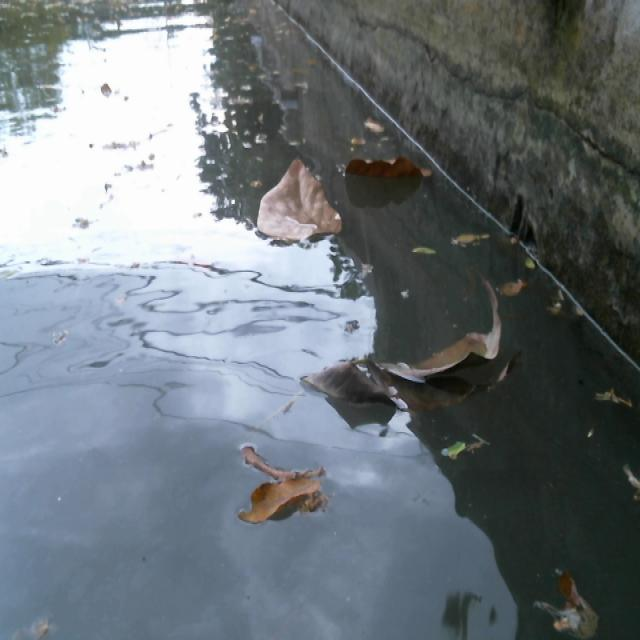Big-leaf: (298, 285, 514, 426), (254, 146, 348, 256), (223, 448, 329, 544), (344, 147, 442, 194)
Small-leaf: (555, 567, 609, 640), (433, 423, 497, 478), (585, 374, 640, 411), (496, 269, 538, 307), (444, 227, 505, 252), (359, 106, 394, 143), (616, 454, 640, 502), (408, 235, 440, 259), (547, 292, 568, 311)
